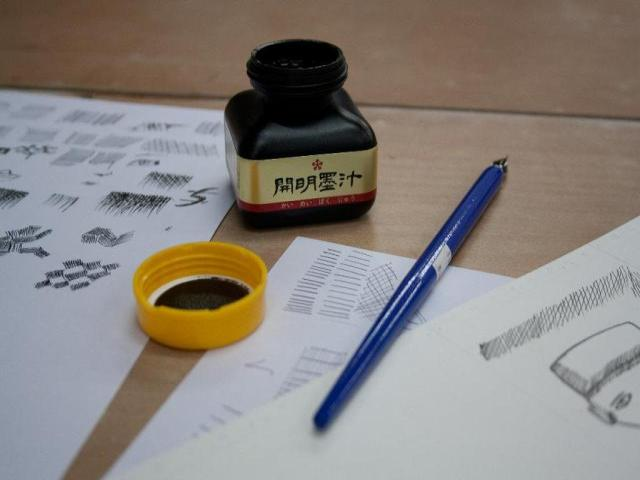PEN: (254, 94, 548, 462)
